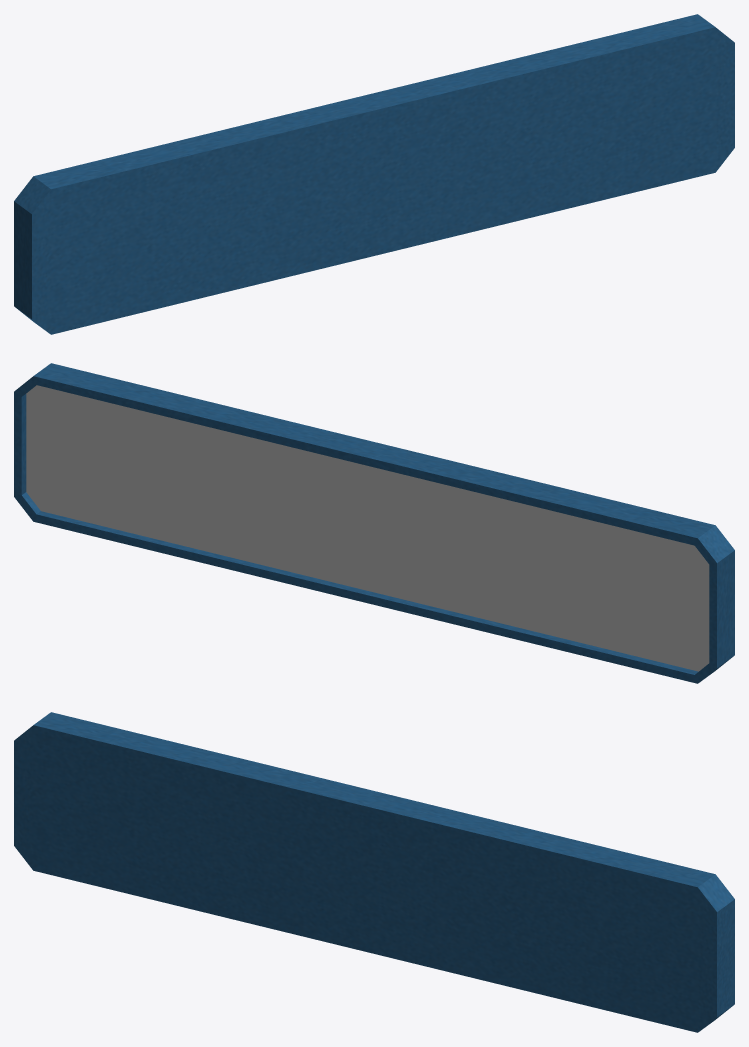
File: RoadMarker.fbx
3 renders of one model, top to bottom at view 1: azimuth 30°, elevation 25°; view 2: azimuth 150°, elevation 25°; view 3: azimuth 330°, elevation 25°, orthographic.
Visible parts, largest first — view 1: Cube; view 2: Cube; view 3: Cube.
Part boxes in pixels (x1,y1,x2,y2): Cube: [14, 14, 734, 334]; Cube: [14, 363, 734, 683]; Cube: [14, 712, 734, 1032].
Bounding box in the file's own units: 1.82 × 0.08 × 0.36.
